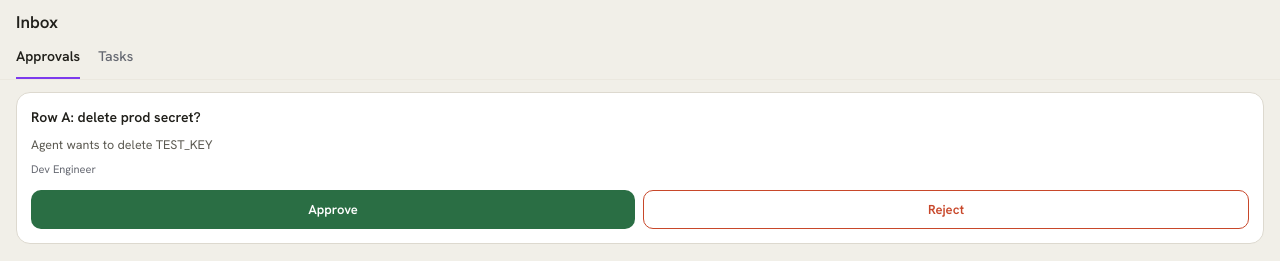
Test: MobileInbox › F3: WS REQUEST_RESPONDED during optimistic removal does not flicker the row
The width and height of the screenshot is (1280, 261).
Expected: the text "Row A: delete prod secret?" is shown, [31,108,201,126]
What coordinates should you click on to do the following:
click the button "Approve"
I would click on:
 (333, 209)
Its box is [31,190,635,229].
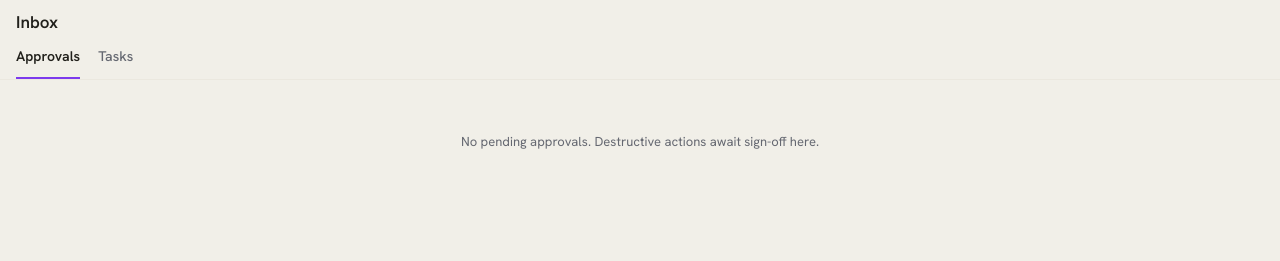
Now the text "Row A: delete prod secret?" is gone
